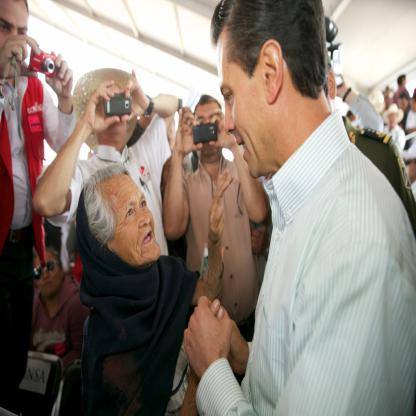Camera: (28, 49, 57, 79), (193, 123, 219, 147), (104, 96, 135, 115)
